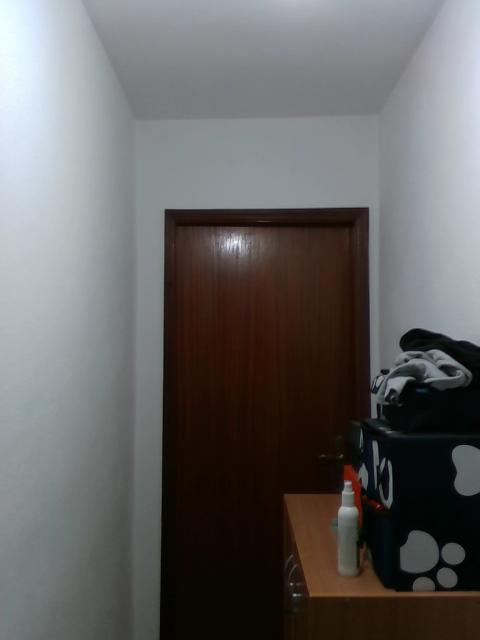door: (176, 225, 350, 640)
